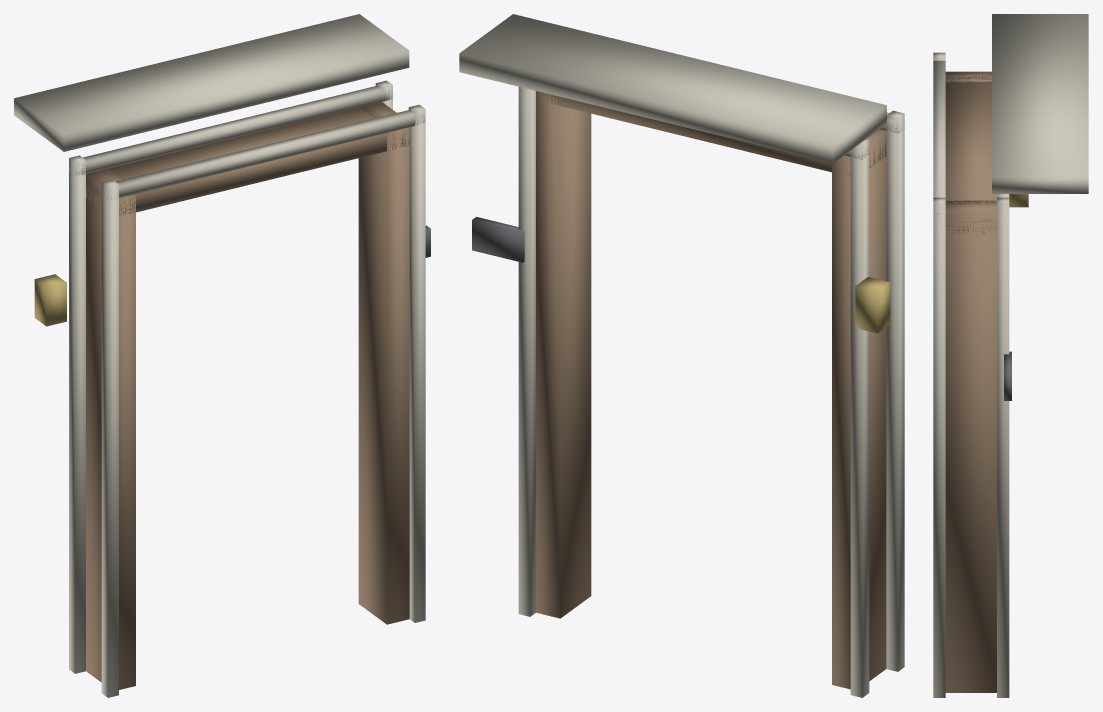
File: doorway_motel_w122_h220_d24.glb
The picture shows the model from 3 angles, left to right: view 1: azimuth 30°, elevation 25°; view 2: azimuth 150°, elevation 25°; view 3: azimuth 270°, elevation 25°; orthographic projection. The views are drawn at different scales.
Parts seen in each view (by area): view 1: world; view 2: world; view 3: world.
Part boxes in pixels (x1=…): world: x1=14, y1=14, x2=430, y2=697; world: x1=459, y1=14, x2=904, y2=697; world: x1=933, y1=14, x2=1088, y2=697.
Size of the model in its own units: 1.86 by 2.53 by 0.6748.
